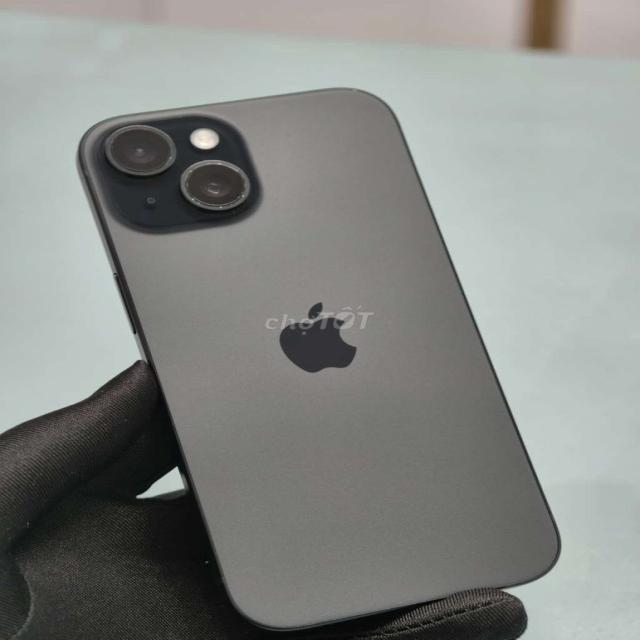scratch: (107, 121, 260, 217)
